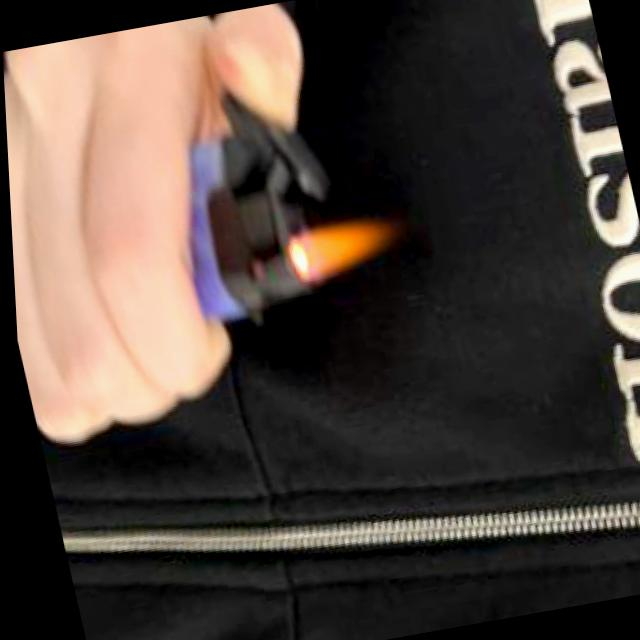fire: (278, 210, 405, 287)
